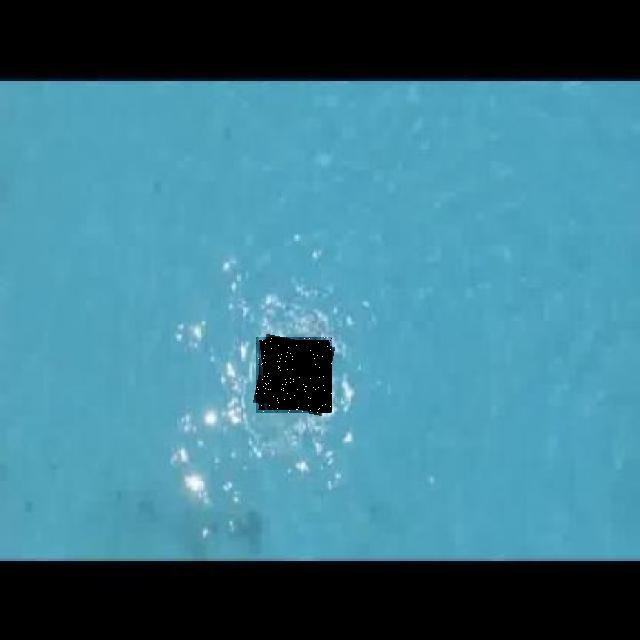swimming: (256, 337, 332, 413)
